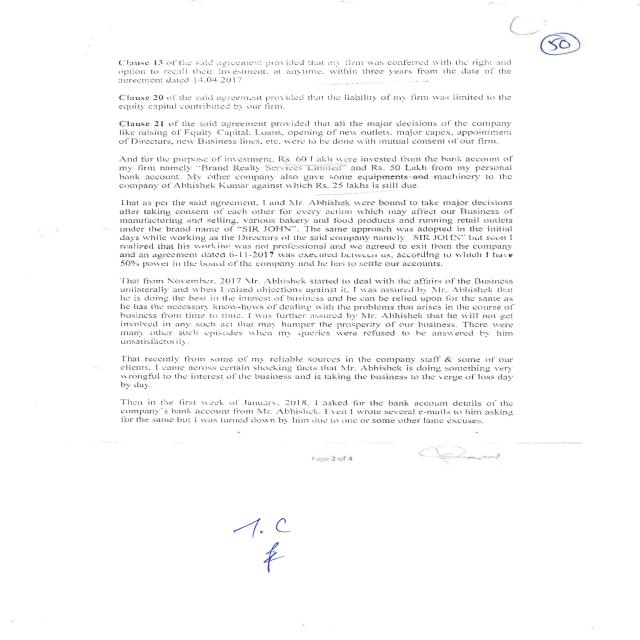page-number: (528, 31, 638, 125)
